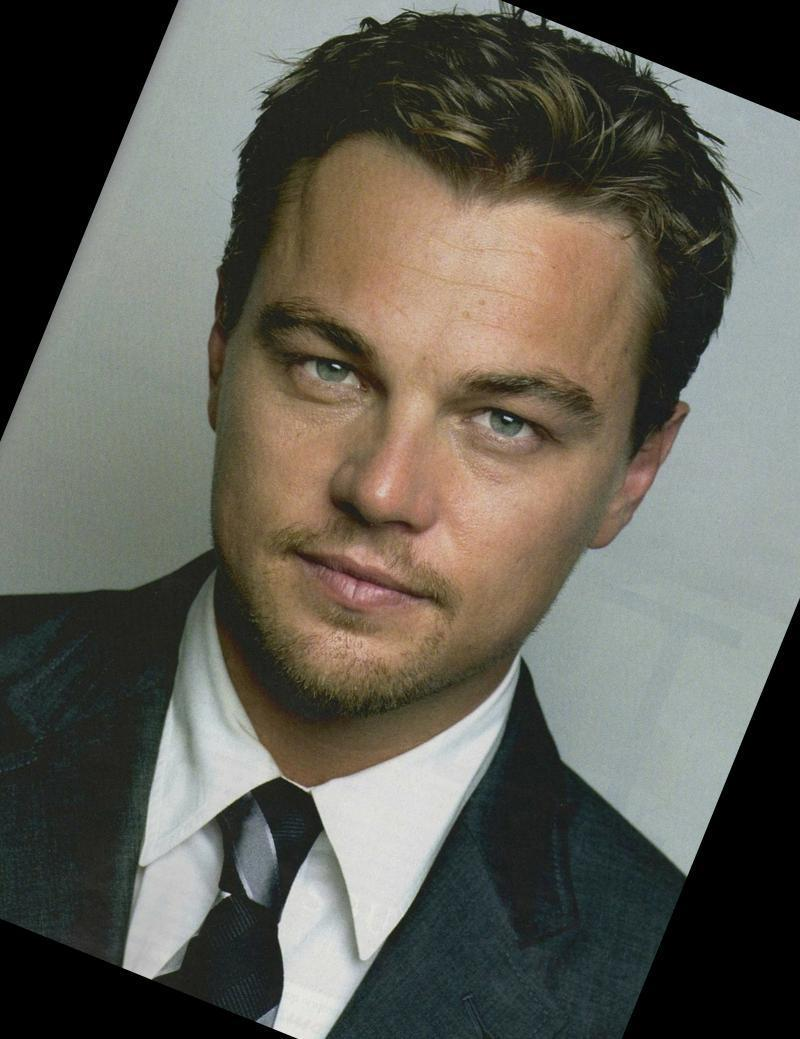Sober: (246, 166, 653, 685)
